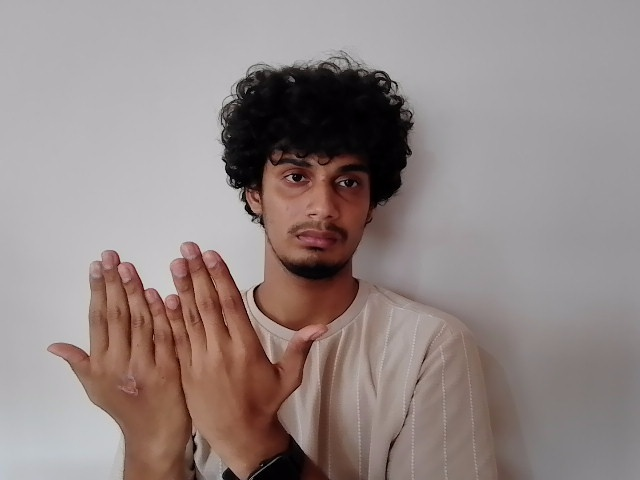school: (52, 241, 328, 442)
